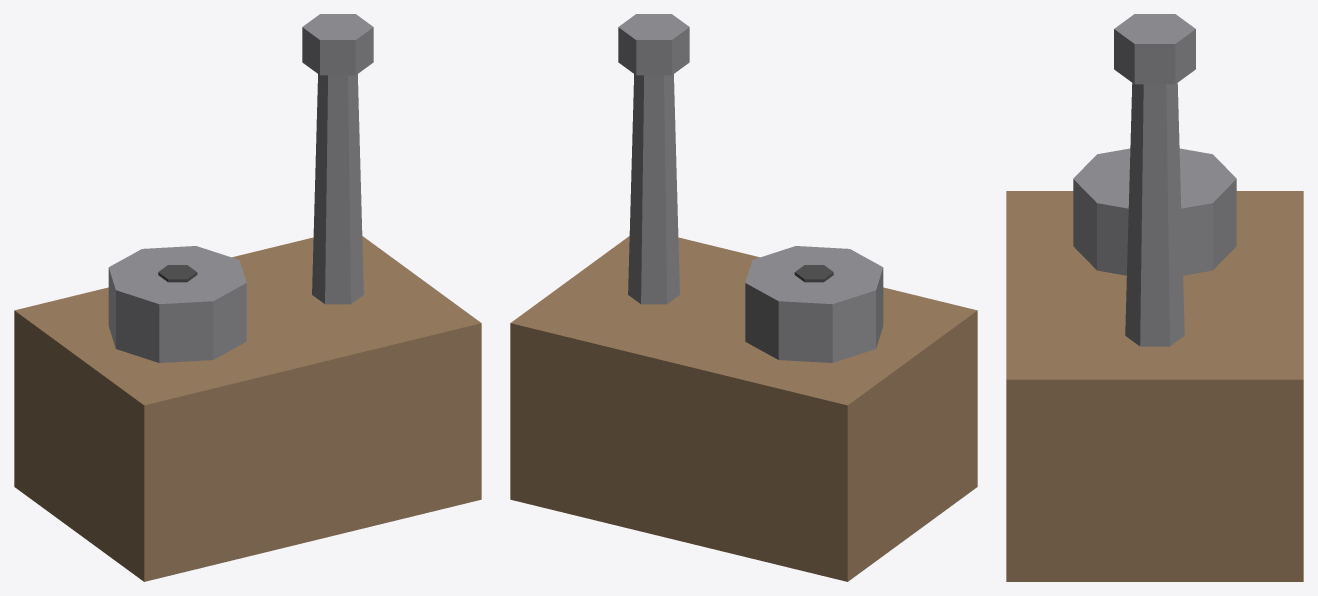
Rendered from prop-punch-link-die.fbx.
3 views of the same model, side by side, from view 1: azimuth 30°, elevation 25°; view 2: azimuth 150°, elevation 25°; view 3: azimuth 270°, elevation 25° (orthographic). The views are drawn at different scales.
Parts seen in each view (by area): view 1: prop-punch-link-die; view 2: prop-punch-link-die; view 3: prop-punch-link-die.
Boxes of the visible parts, <box> form: prop-punch-link-die: <box>14,14,481,581</box>; prop-punch-link-die: <box>510,14,977,581</box>; prop-punch-link-die: <box>1006,14,1303,581</box>.
Bounding box in the file's own units: 12 × 15.1 × 8.
